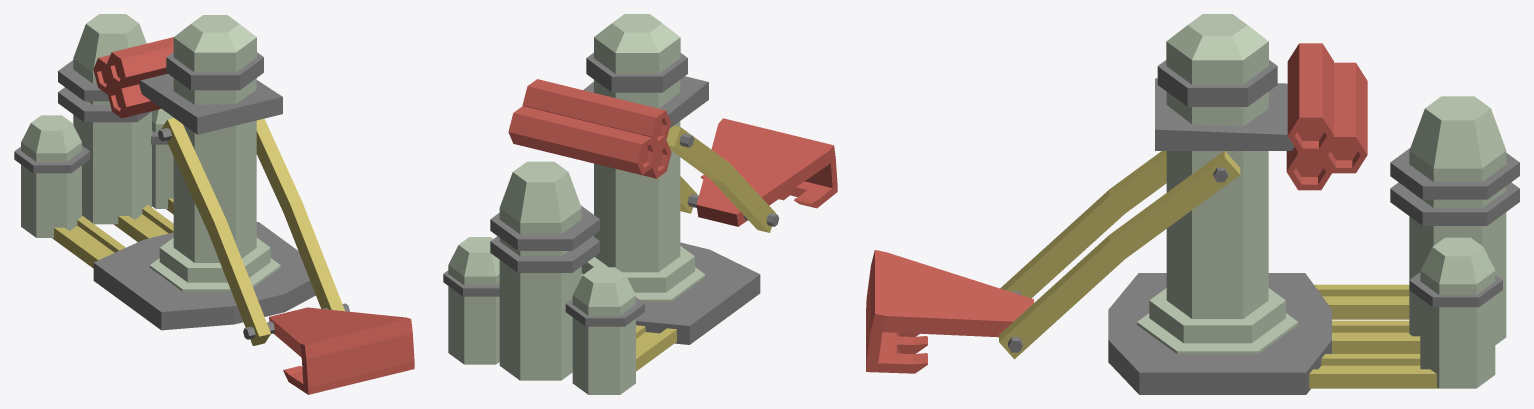
The model's file is extravactor v2 02.fbx.
3 views of the same model, side by side, from view 1: azimuth 30°, elevation 25°; view 2: azimuth 150°, elevation 25°; view 3: azimuth 270°, elevation 25° (orthographic). The views are drawn at different scales.
Visible parts, largest first — view 1: Cylinder.002, Cube.007, Cylinder.004, Cube.004, Cylinder.007, Cube, Cube.001, Cube.002, Cylinder.012, Cube.005, Cylinder.008, Cylinder.005 (+5 smaller); view 2: Cylinder.002, Cylinder.004, Cube.004, Cylinder.007, Cube.007, Cylinder.011, Cylinder.008, Cylinder.012, Cube, Cylinder.006, Cylinder.005, Cube.002 (+5 smaller); view 3: Cylinder.002, Cube.007, Cube.004, Cylinder.004, Cylinder.008, Cube.001, Cube, Cube.002, Cylinder.012, Cube.006, Cylinder.011, Cube.005 (+5 smaller).
Boxes of the visible parts, x1=… form: Cylinder.002: x1=149, y1=15, x2=280, y2=291; Cube.007: x1=93, y1=222, x2=315, y2=330; Cylinder.004: x1=73, y1=14, x2=151, y2=224; Cube.004: x1=269, y1=307, x2=414, y2=394; Cylinder.007: x1=21, y1=115, x2=81, y2=237; Cube: x1=161, y1=118, x2=270, y2=345; Cube.001: x1=256, y1=118, x2=344, y2=311; Cube.002: x1=139, y1=74, x2=282, y2=134; Cylinder.012: x1=107, y1=37, x2=173, y2=88; Cube.005: x1=52, y1=215, x2=125, y2=268; Cylinder.008: x1=152, y1=109, x2=173, y2=208; Cylinder.005: x1=58, y1=87, x2=152, y2=122; Cylinder.002: x1=581, y1=14, x2=705, y2=301; Cylinder.004: x1=499, y1=161, x2=581, y2=380; Cube.004: x1=696, y1=118, x2=837, y2=226; Cylinder.007: x1=572, y1=267, x2=635, y2=394; Cube.007: x1=593, y1=235, x2=760, y2=344; Cylinder.011: x1=508, y1=106, x2=656, y2=174; Cylinder.008: x1=448, y1=237, x2=499, y2=364; Cylinder.012: x1=522, y1=79, x2=670, y2=147; Cube: x1=666, y1=125, x2=776, y2=232; Cylinder.006: x1=490, y1=205, x2=599, y2=250; Cylinder.005: x1=490, y1=236, x2=599, y2=272; Cube.002: x1=583, y1=76, x2=708, y2=128; Cylinder.002: x1=1137, y1=14, x2=1298, y2=354; Cube.007: x1=1108, y1=273, x2=1331, y2=394; Cube.004: x1=866, y1=250, x2=1033, y2=373; Cylinder.004: x1=1409, y1=96, x2=1506, y2=344; Cylinder.008: x1=1420, y1=237, x2=1495, y2=388; Cube.001: x1=999, y1=151, x2=1240, y2=359; Cube: x1=1000, y1=151, x2=1166, y2=298; Cube.002: x1=1155, y1=78, x2=1294, y2=150; Cylinder.012: x1=1287, y1=43, x2=1333, y2=153; Cube.006: x1=1309, y1=354, x2=1438, y2=388; Cylinder.011: x1=1321, y1=62, x2=1367, y2=173; Cube.005: x1=1314, y1=284, x2=1409, y2=319.
Size of the model in its own units: 309 by 443 by 815.
